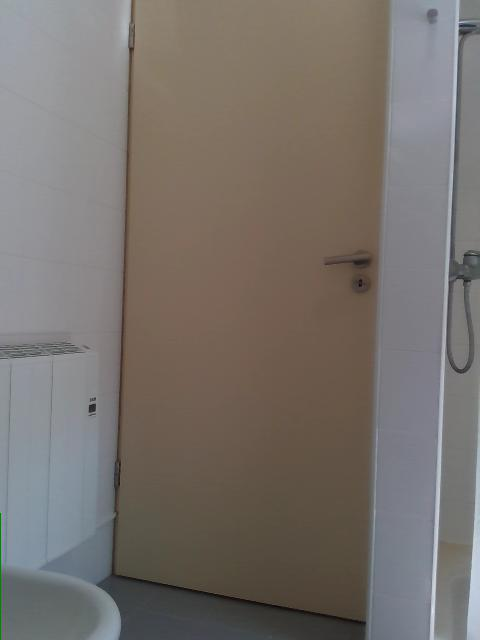door: (104, 0, 391, 624)
